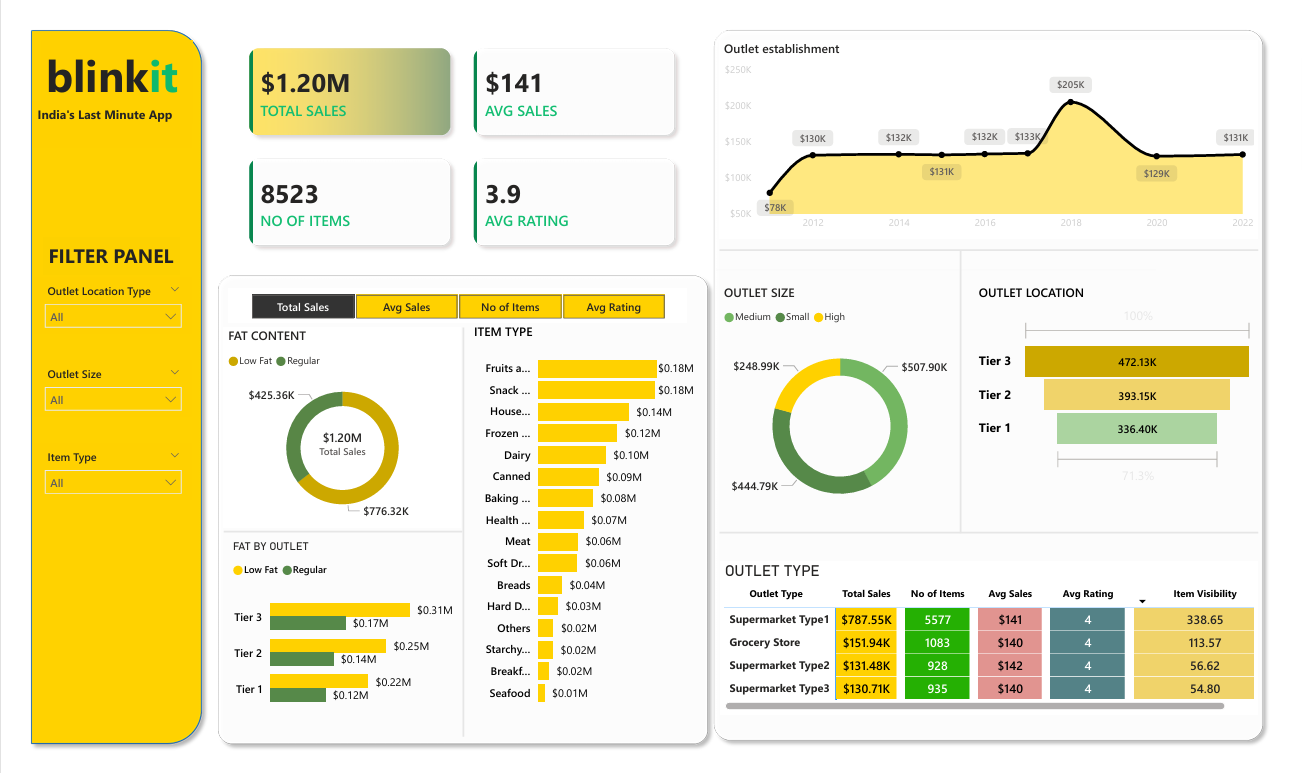

This screenshot's page, from the dashboard's own definition file:
{"tool":"powerbi","page":{"name":"Page 1","canvas":[1400,800],"ordinal":0},"visuals":[{"type":"shape","box":[0,0,205.1,800.3],"z":0},{"type":"textbox","box":[20.1,20.1,166.2,91.2],"z":1000},{"type":"textbox","box":[10.7,87.1,175.6,50.9],"z":2000},{"type":"cardVisual","fields":{"Data":["BlinkIT Grocery Data.Total Sales","BlinkIT Grocery Data.Avg Sales","BlinkIT Grocery Data.No of Items","BlinkIT Grocery Data.Avg Rating"]},"box":[219.5,0,526,275.3],"z":3000},{"type":"shape","box":[205.1,269.4,553.6,530.8],"z":4000},{"type":"donutChart","title":"FAT CONTENT","fields":{"Y":["BlinkIT Grocery Data.Total Sales"],"Category":["BlinkIT Grocery Data.Item Fat Content"]},"box":[219.8,335.1,260.1,219.8],"z":5000},{"type":"slicer","fields":{"Values":["Metrics.Metrics"]},"box":[225.2,292.2,501.3,37.5],"z":6000},{"type":"cardVisual","fields":{"Data":["BlinkIT Grocery Data.Total Sales"]},"box":[293.6,426.3,112.6,71],"z":7000},{"type":"clusteredBarChart","title":"FAT BY OUTLET","fields":{"Y":["BlinkIT Grocery Data.Total Sales"],"Category":["BlinkIT Grocery Data.Outlet Location Type"],"Series":["BlinkIT Grocery Data.Item Fat Content"]},"box":[225.2,568.4,250.7,200],"z":8000},{"type":"shape","box":[758.7,250.7,482.6,41.6],"z":9000},{"type":"shape","box":[475.9,335.1,13.4,447.7],"z":10000},{"type":"barChart","title":"ITEM TYPE","fields":{"Y":["BlinkIT Grocery Data.Total Sales"],"Category":["BlinkIT Grocery Data.Item Type"]},"box":[489.3,329.8,250.7,429],"z":11000},{"type":"shape","box":[748,0,619.3,796.3],"z":12000},{"type":"lineChart","title":"Outlet establishment","fields":{"Y":["BlinkIT Grocery Data.Total Sales"],"Category":["BlinkIT Grocery Data.Outlet Establishment Year"]},"box":[762.7,20.1,589.8,217.2],"z":13000},{"type":"shape","box":[219.8,533.5,261.4,49.6],"z":14000},{"type":"donutChart","title":"OUTLET SIZE","fields":{"Y":["BlinkIT Grocery Data.Total Sales"],"Category":["BlinkIT Grocery Data.Outlet Size"]},"box":[762.7,286.9,264.1,268.1],"z":15000},{"type":"funnel","title":"OUTLET LOCATION","fields":{"Category":["BlinkIT Grocery Data.Outlet Location Type"],"Y":["Sum(BlinkIT Grocery Data.Sales)"]},"box":[1041.6,286.9,311,225.2],"z":16000},{"type":"pivotTable","title":"OUTLET TYPE","fields":{"Rows":["BlinkIT Grocery Data.Outlet Type"],"Values":["BlinkIT Grocery Data.Total Sales","BlinkIT Grocery Data.No of Items","BlinkIT Grocery Data.Avg Sales","BlinkIT Grocery Data.Avg Rating","Sum(BlinkIT Grocery Data.Item Visibility)"]},"box":[764.1,591.2,588.5,167.6],"z":17000},{"type":"shape","box":[762.7,534.9,589.8,49.6],"z":18000},{"type":"shape","box":[762.7,225.2,589.8,49.6],"z":19000},{"type":"shape","box":[1012.1,250.7,29.5,309.7],"z":20000},{"type":"slicer","fields":{"Values":["BlinkIT Grocery Data.Outlet Location Type"]},"box":[13.4,280.2,171.6,61.7],"z":21000},{"type":"slicer","fields":{"Values":["BlinkIT Grocery Data.Outlet Location Type"]},"box":[13.4,371.3,171.6,61.7],"z":22000},{"type":"slicer","fields":{"Values":["BlinkIT Grocery Data.Item Type"]},"box":[13.4,462.5,171.6,61.7],"z":23000},{"type":"textbox","box":[23.4,236.4,149.4,40.3],"z":24000}]}

Visuals, with their boxes in screenshot pixels (x1, y1, x2, y2), scaled from the page's 1400x800 canvas onto the 1316x773 screenshot:
shape: <region>0, 0, 193, 772</region>
textbox: <region>19, 19, 175, 108</region>
textbox: <region>10, 84, 175, 133</region>
cardVisual - BlinkIT Grocery Data.Total Sales x BlinkIT Grocery Data.Avg Sales: <region>206, 0, 701, 266</region>
shape: <region>193, 260, 713, 772</region>
"FAT CONTENT" donutChart: <region>207, 324, 451, 536</region>
slicer - Metrics.Metrics: <region>212, 282, 683, 319</region>
cardVisual - BlinkIT Grocery Data.Total Sales: <region>276, 412, 382, 481</region>
"FAT BY OUTLET" clusteredBarChart: <region>212, 549, 447, 742</region>
shape: <region>713, 242, 1167, 282</region>
shape: <region>447, 324, 460, 756</region>
"ITEM TYPE" barChart: <region>460, 319, 696, 733</region>
shape: <region>703, 0, 1285, 769</region>
"Outlet establishment" lineChart: <region>717, 19, 1271, 229</region>
shape: <region>207, 515, 452, 563</region>
"OUTLET SIZE" donutChart: <region>717, 277, 965, 536</region>
"OUTLET LOCATION" funnel: <region>979, 277, 1271, 495</region>
"OUTLET TYPE" pivotTable: <region>718, 571, 1271, 733</region>
shape: <region>717, 517, 1271, 565</region>
shape: <region>717, 218, 1271, 266</region>
shape: <region>951, 242, 979, 541</region>
slicer - BlinkIT Grocery Data.Outlet Location Type: <region>13, 271, 174, 330</region>
slicer - BlinkIT Grocery Data.Outlet Location Type: <region>13, 359, 174, 418</region>
slicer - BlinkIT Grocery Data.Item Type: <region>13, 447, 174, 507</region>
textbox: <region>22, 228, 162, 267</region>
